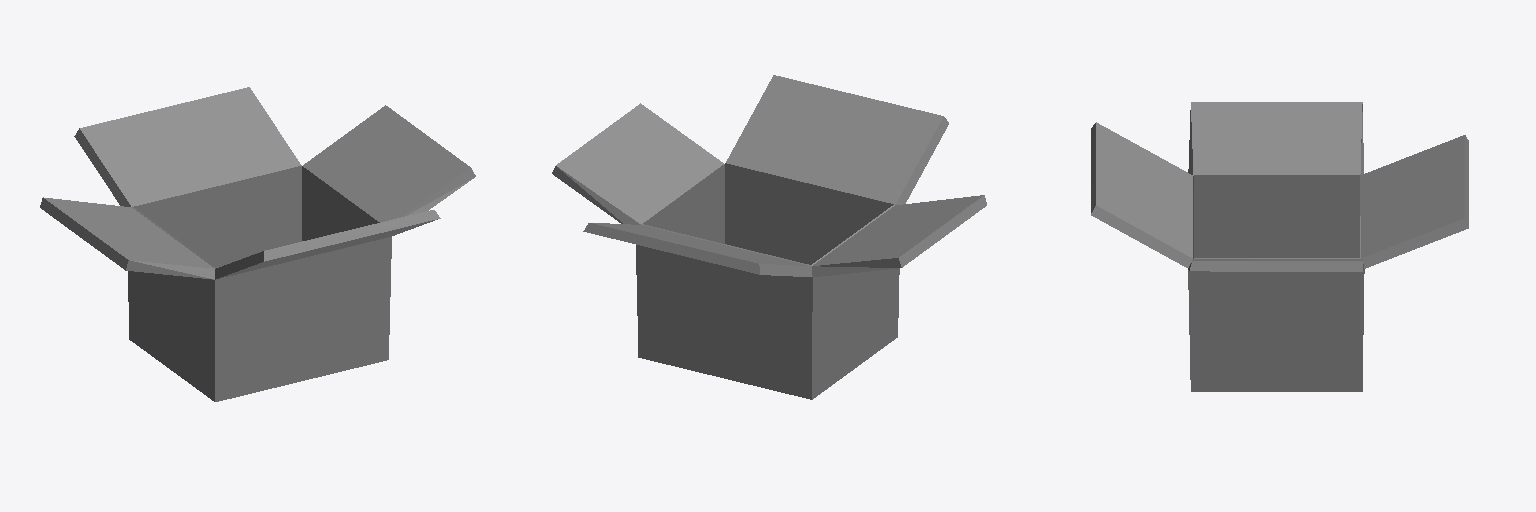
The model's file is OpenBox.obj.
The picture shows the model from 3 angles: view 1: azimuth 30°, elevation 25°; view 2: azimuth 150°, elevation 25°; view 3: azimuth 270°, elevation 25°; orthographic projection.
Parts seen in each view (by area): view 1: Box001; view 2: Box001; view 3: Box001.
Boxes of the visible parts, x1,y1,x2,y2 form: Box001: [40, 87, 475, 401]; Box001: [552, 75, 986, 399]; Box001: [1091, 102, 1468, 391].
Size of the model in its own units: 23.99 by 12.18 by 22.48.